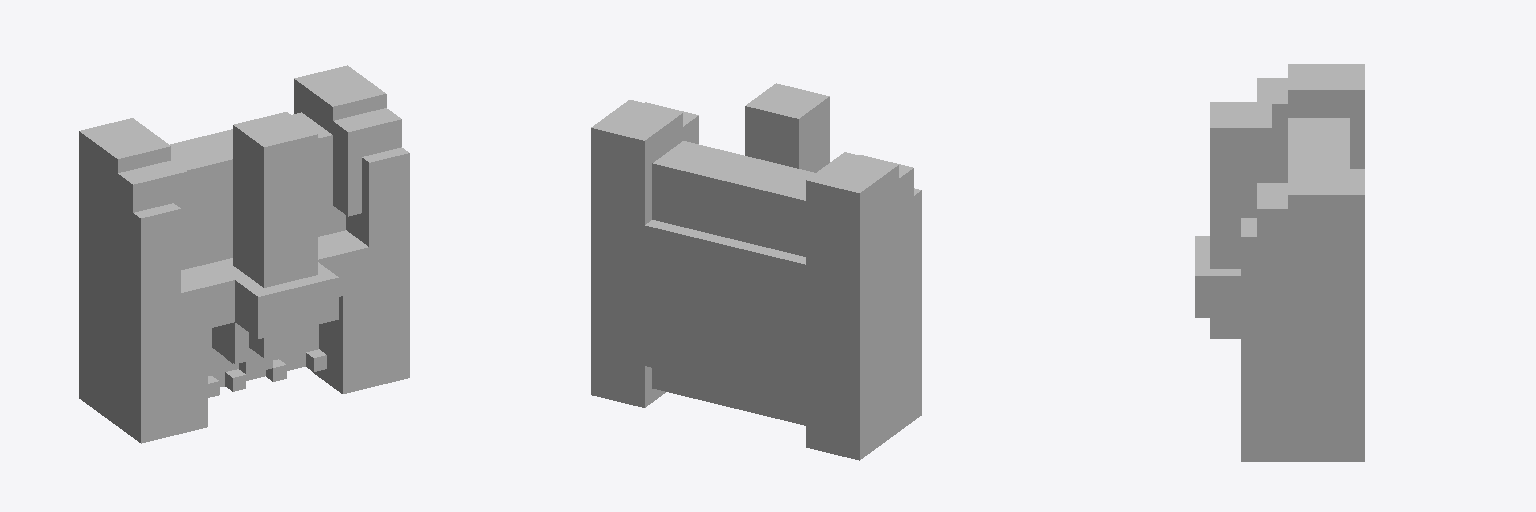
Rendered from Tank.obj.
The picture shows the model from 3 angles: view 1: azimuth 30°, elevation 25°; view 2: azimuth 150°, elevation 25°; view 3: azimuth 270°, elevation 25°; orthographic projection.
Visible parts, largest first — view 1: object 1; view 2: object 1; view 3: object 1.
Boxes of the visible parts, x1=… form: object 1: x1=79, y1=65, x2=409, y2=443; object 1: x1=591, y1=83, x2=921, y2=460; object 1: x1=1195, y1=64, x2=1364, y2=461.
Size of the model in its own units: 20 by 20 by 11.